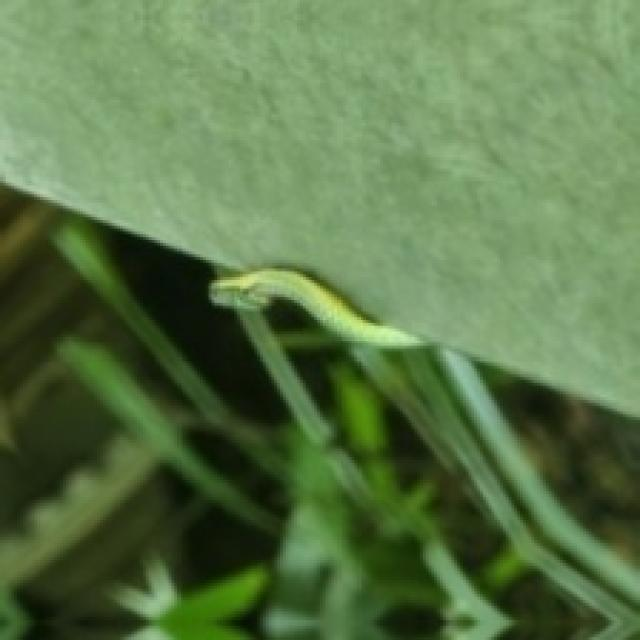paradise tree snake: (209, 269, 637, 634)
